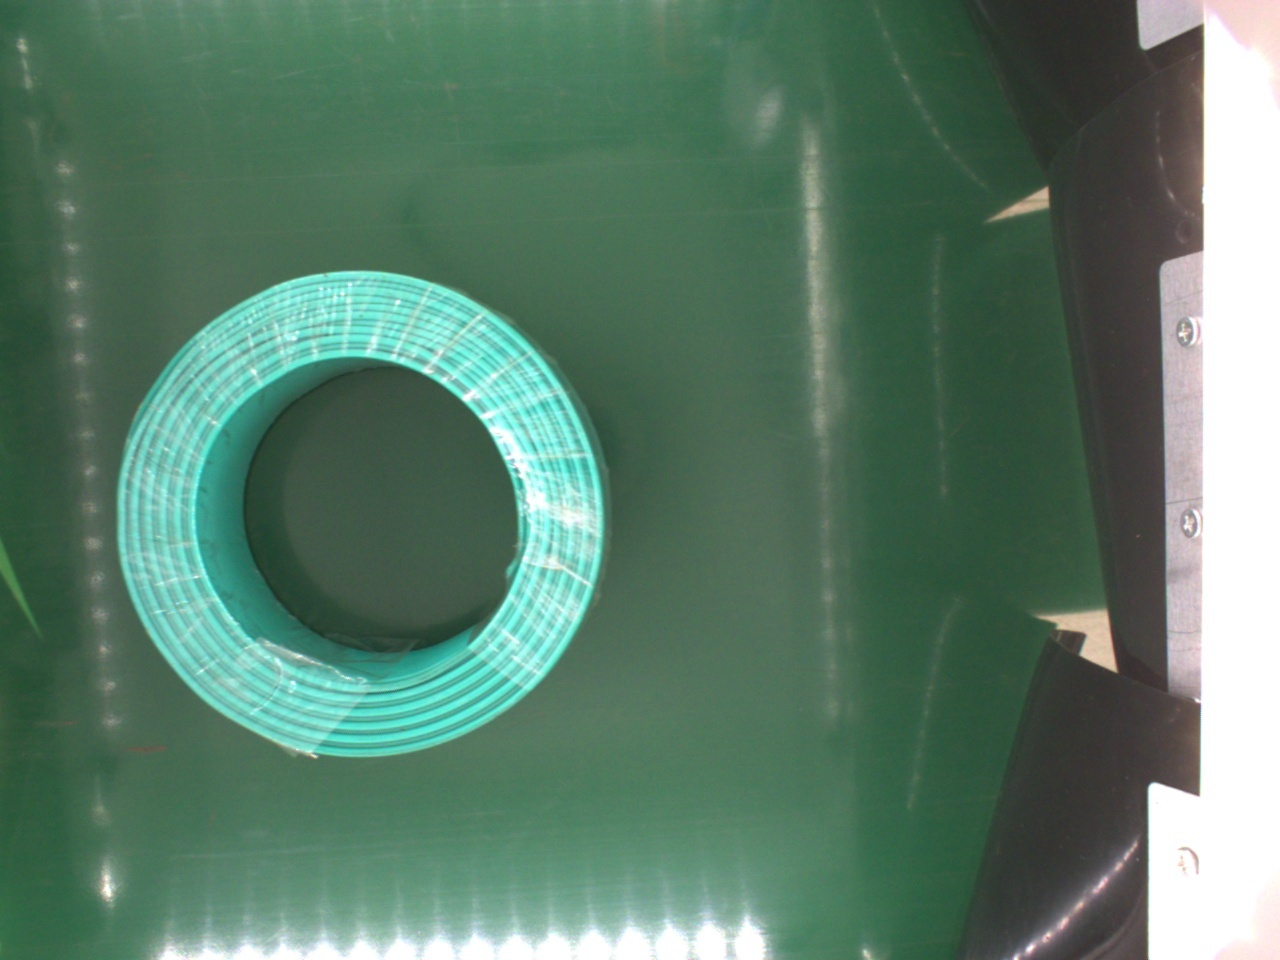green: (116, 273, 610, 760)
